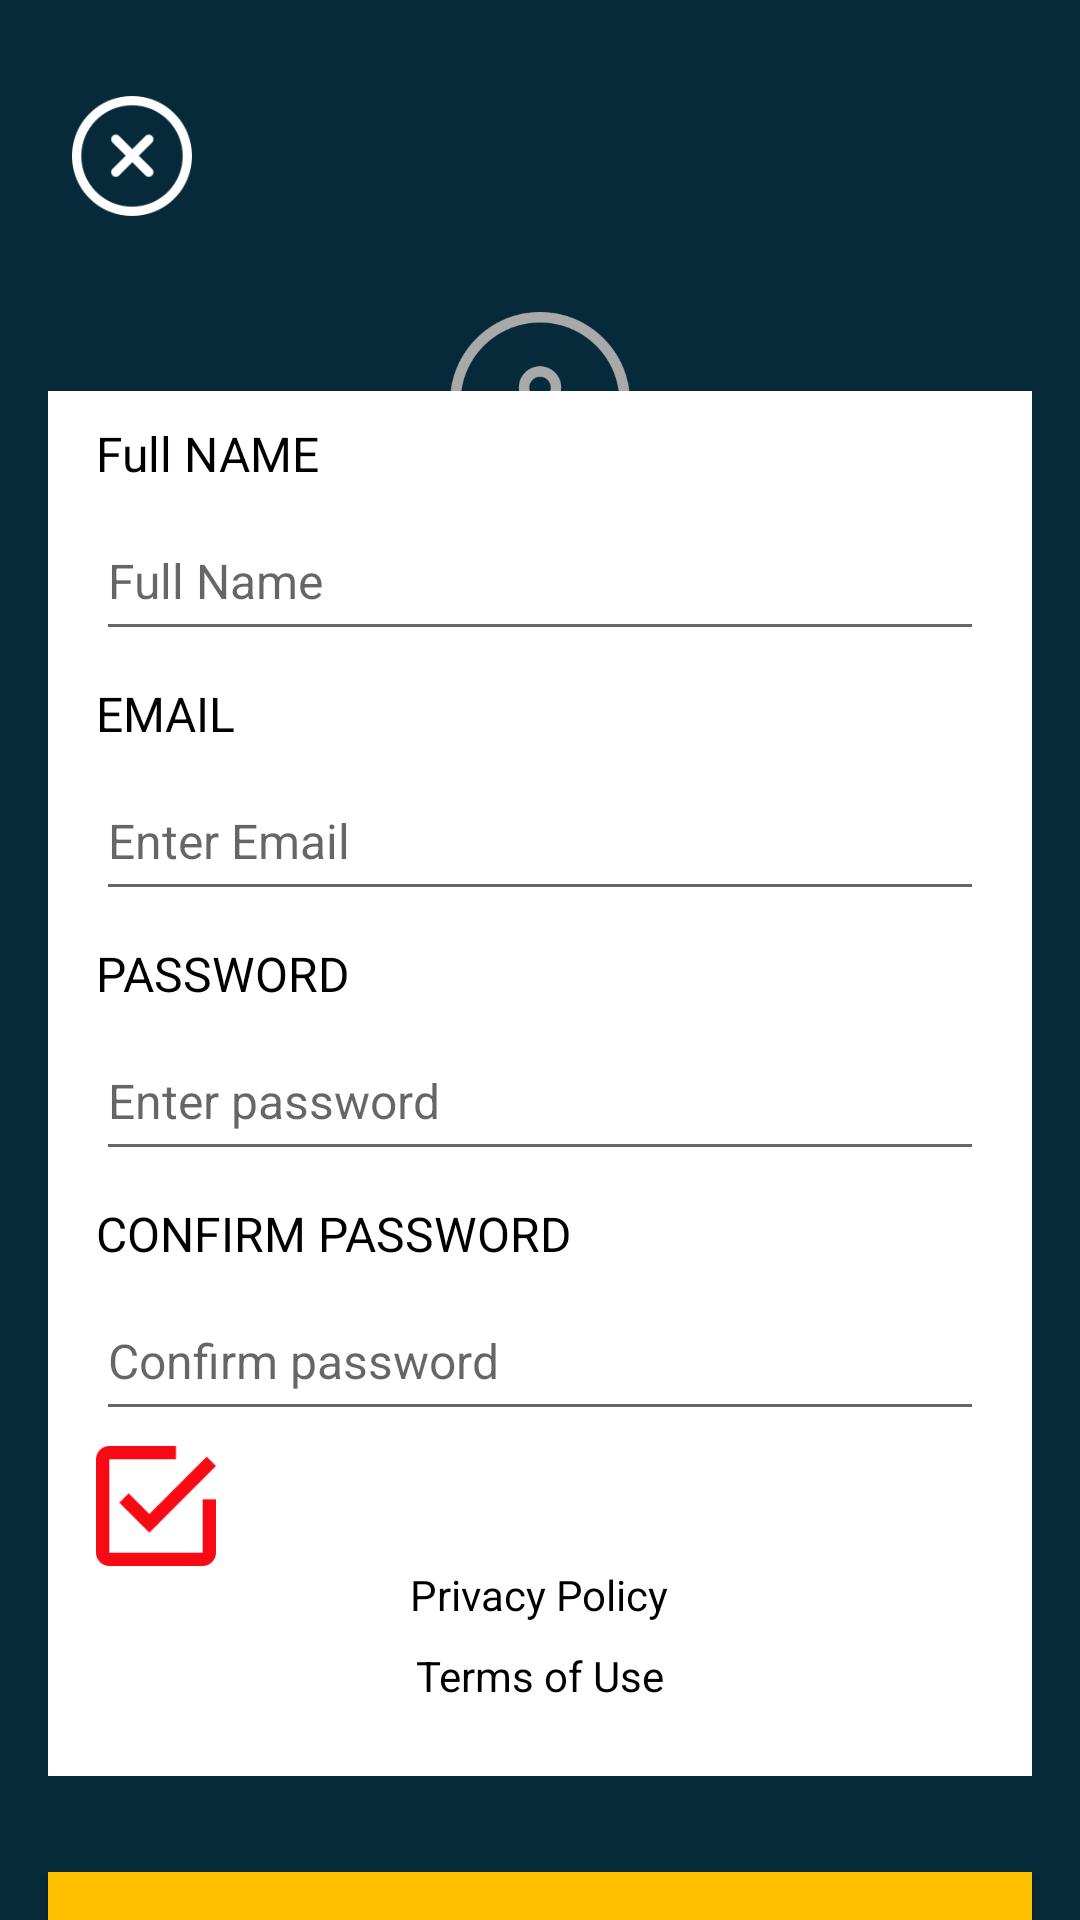

Where icons sit on this 1080px×1920px app screen, as (x1, y1, x2, y2):
cancel: (72, 96, 192, 216)
checkbox: (96, 1446, 216, 1566)
